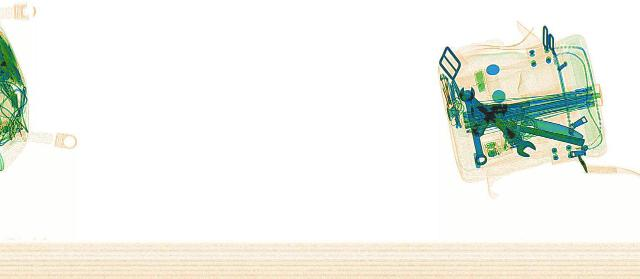Gun: (458, 100, 544, 135)
Knife: (464, 101, 590, 140)
Wrench: (447, 88, 545, 157), (454, 87, 491, 164)
